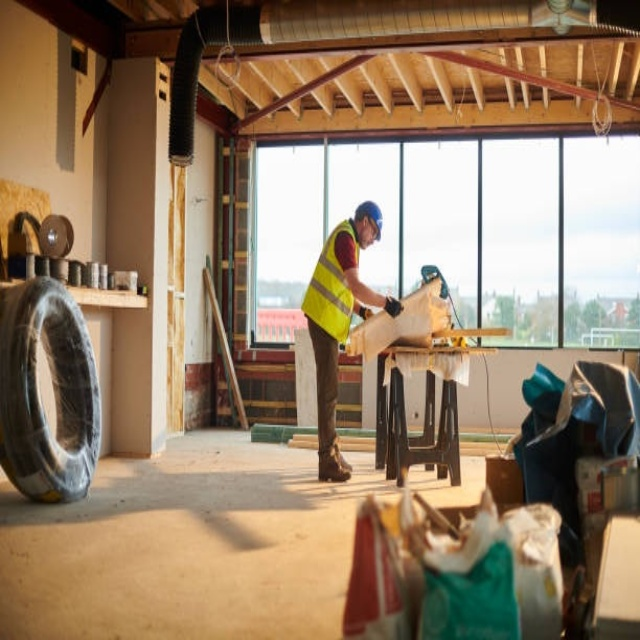Gafas: (369, 216, 381, 242)
Guantes: (384, 293, 407, 320)
